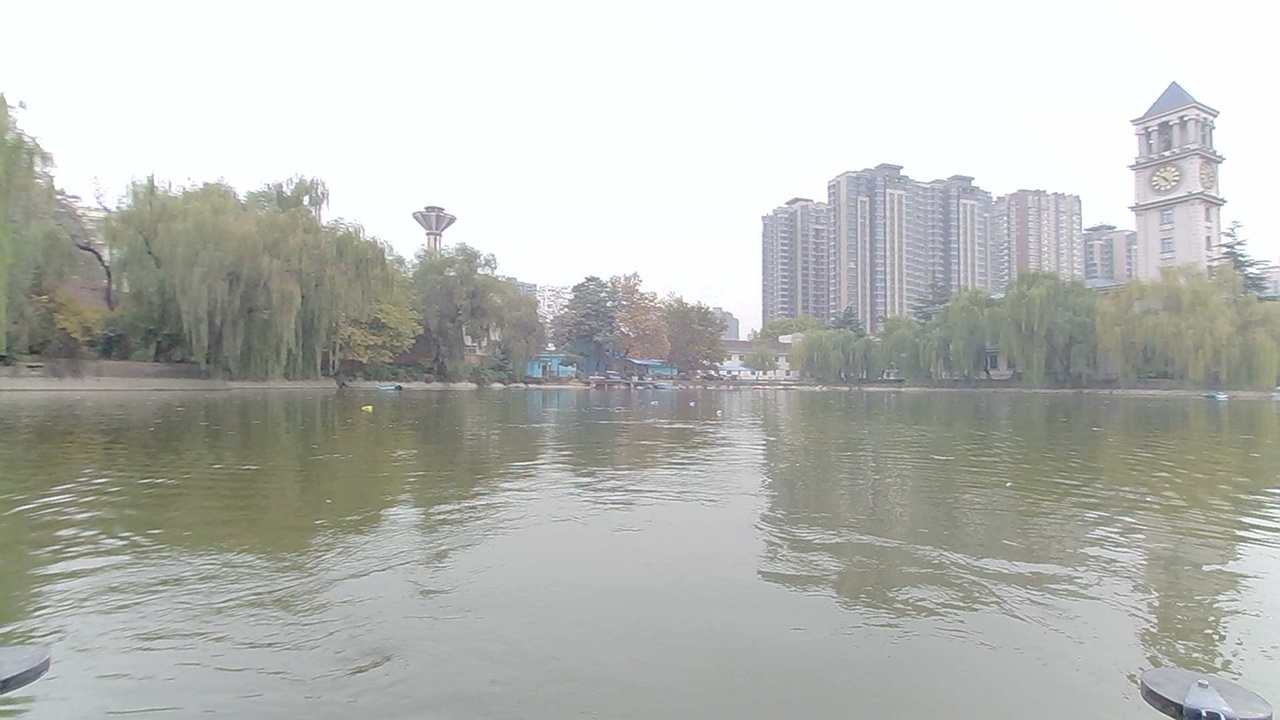bottle: (353, 400, 382, 421), (677, 391, 702, 411), (642, 390, 665, 411), (707, 400, 732, 419)
